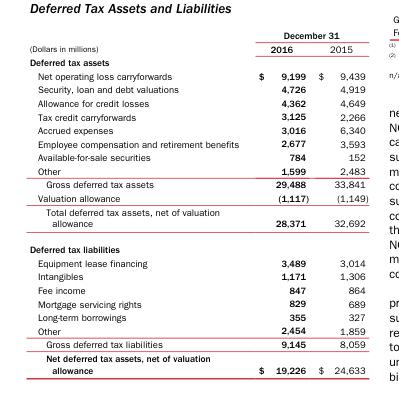table: (28, 29, 367, 375)
table column: (28, 29, 248, 375), (248, 29, 312, 375), (312, 29, 367, 375)
table column header: (28, 29, 367, 55)
table projected row header: (28, 236, 367, 255), (28, 55, 367, 68)
table row: (28, 204, 367, 236), (28, 351, 367, 375), (28, 236, 367, 255), (28, 41, 367, 55), (28, 68, 367, 82), (28, 95, 367, 109), (28, 122, 367, 136), (28, 136, 367, 150), (28, 163, 367, 177), (28, 190, 367, 204), (28, 255, 367, 269), (28, 282, 367, 296), (28, 309, 367, 323), (28, 323, 367, 337), (28, 337, 367, 351), (28, 55, 367, 68), (28, 82, 367, 95), (28, 109, 367, 122), (28, 150, 367, 163), (28, 177, 367, 190), (28, 269, 367, 282), (28, 296, 367, 309), (28, 29, 367, 41)
table spanning cell: (28, 29, 248, 55), (248, 29, 367, 41)
